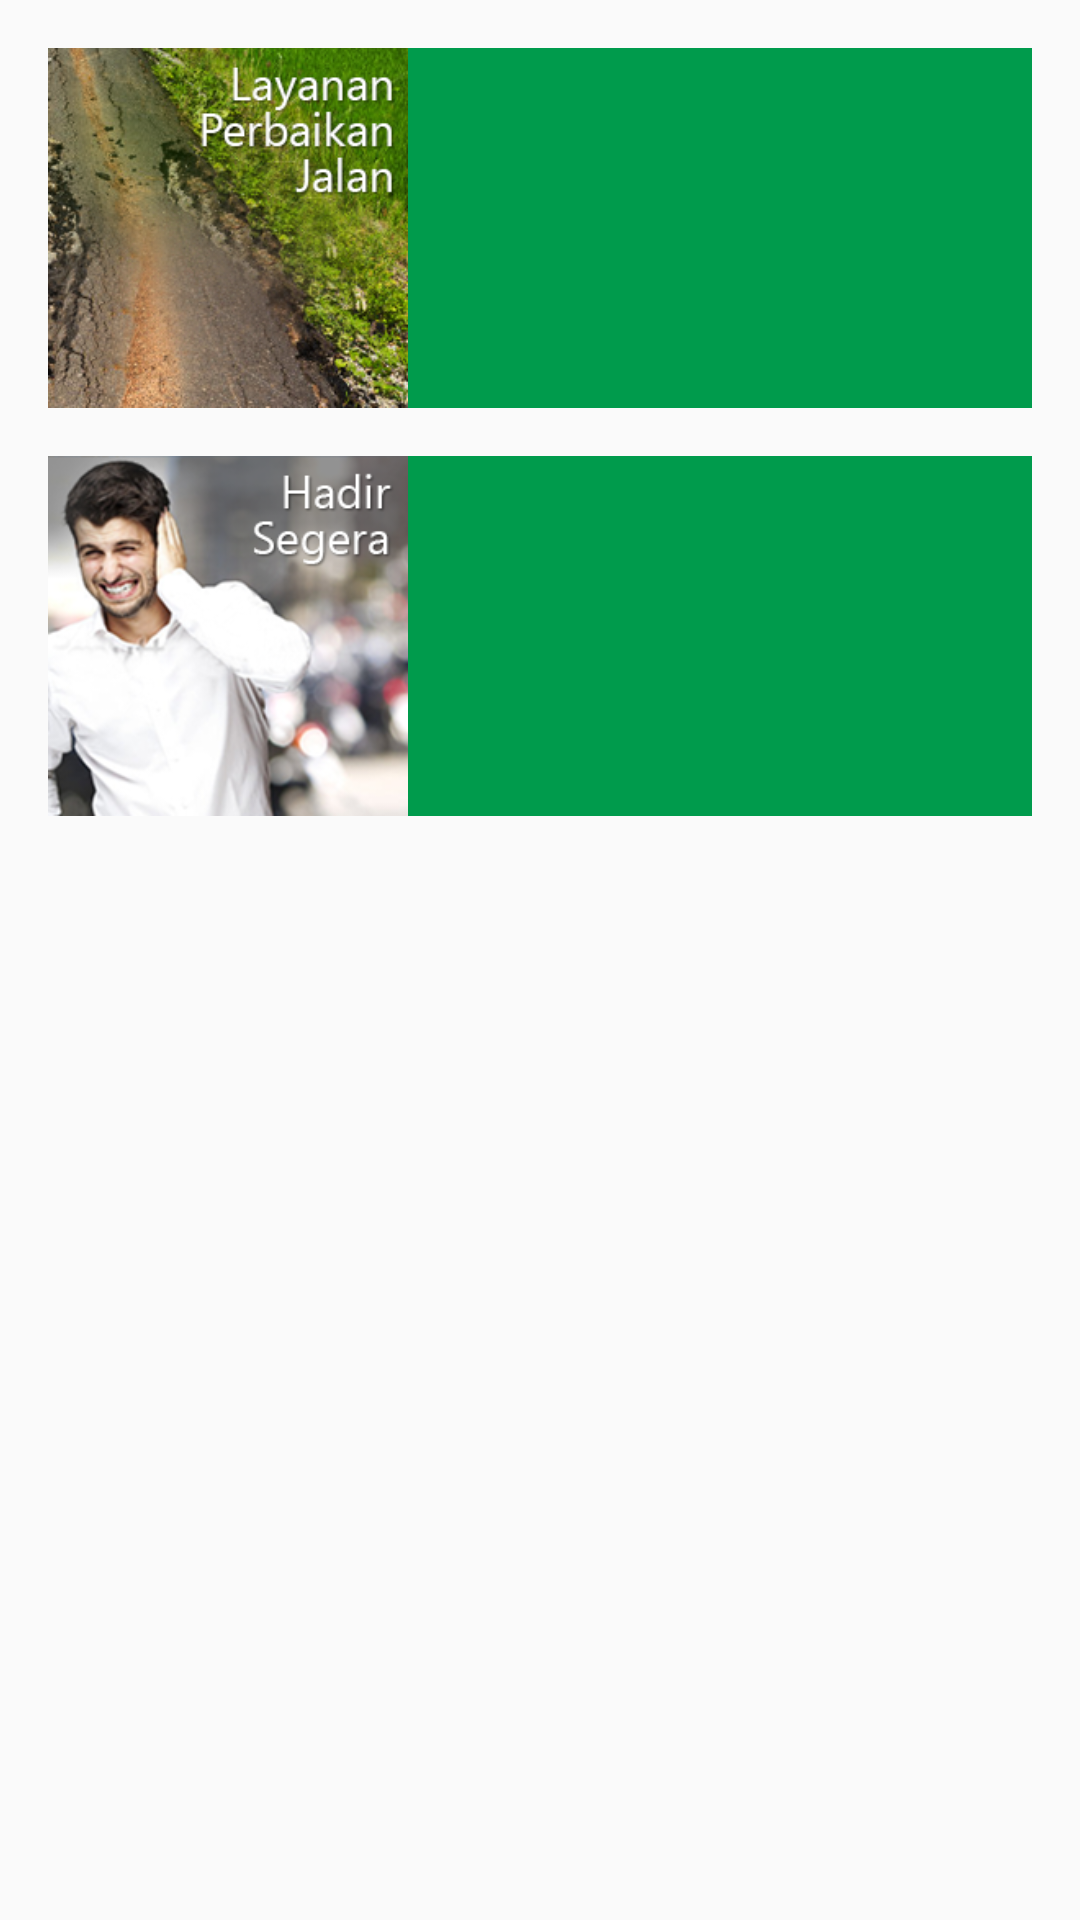

Screen size 1080w x 1920h. Icon name, then its box in pixels as (x1, y1, x2, y2):
noise complaint: (48, 456, 408, 816)
